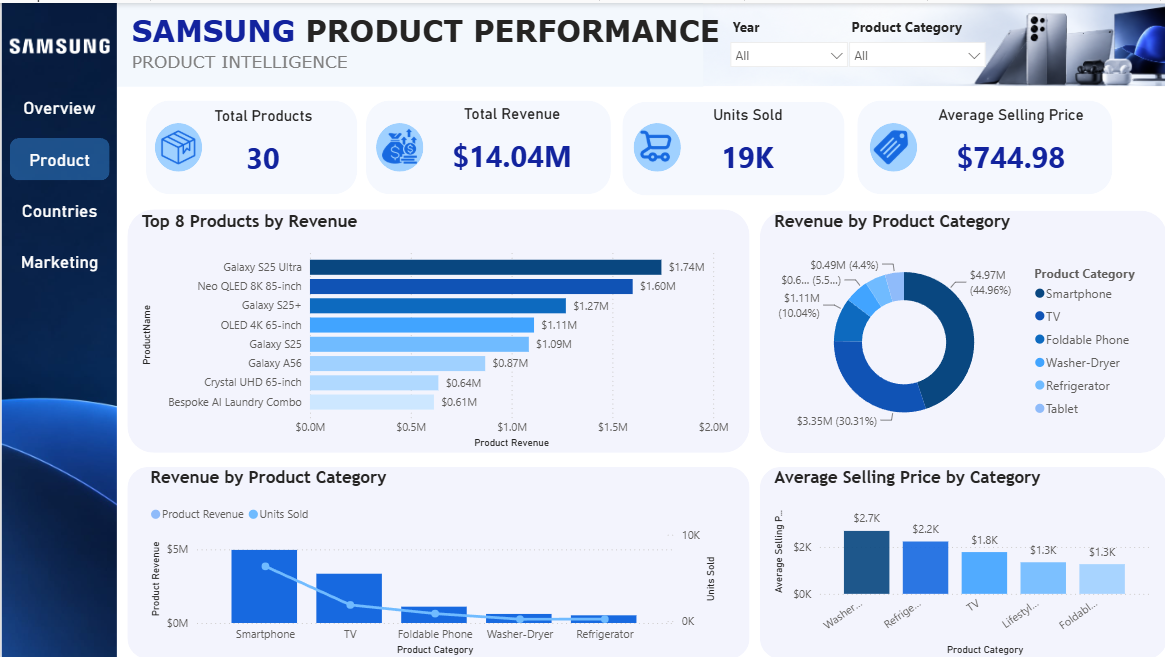

What the dashboard file says about the page in this screenshot:
{"tool":"powerbi","page":{"name":"PRODUCT INTELLIGENCE","canvas":[1280,720],"ordinal":1},"visuals":[{"type":"shape","box":[832.9,509.1,447.3,211.3],"z":0},{"type":"shape","box":[832.9,227.8,447.3,266.2],"z":1000},{"type":"shape","box":[138.6,509.1,683.4,211.3],"z":2000},{"type":"shape","box":[138.6,226.4,683.4,267.6],"z":3000},{"type":"shape","box":[940,107,279.9,102.9],"z":4000},{"type":"shape","box":[682,108.4,244.3,102.9],"z":5000},{"type":"shape","box":[400.7,107,269,102.9],"z":6000},{"type":"shape","box":[159.2,107,231.9,102.9],"z":7000},{"type":"cardVisual","title":"Total Products","fields":{"Data":["Samsung_Products.Total Products"]},"box":[185.2,113.9,205.8,96.1],"z":8000},{"type":"cardVisual","title":"Total Revenue","fields":{"Data":["Samsung_Countries.Total Revenue"]},"box":[450.1,111.1,222.3,94.7],"z":9000},{"type":"cardVisual","title":"Units Sold","fields":{"Data":["Samsung_Countries.Units Sold"]},"box":[719,112.5,201.7,94.7],"z":10000},{"type":"cardVisual","title":"Average Selling Price","fields":{"Data":["Samsung_Countries.Average Selling Price"]},"box":[997.6,112.5,222.3,94.7],"z":11000},{"type":"clusteredBarChart","title":"Top 8 Products by Revenue","fields":{"Category":["Samsung_Products.ProductName"],"Y":["Samsung_Products.Product Revenue"]},"box":[149.6,227.8,654.5,266.2],"z":12000},{"type":"donutChart","title":"Revenue by Product Category","fields":{"Category":["Samsung_Products.ProductCategory"],"Y":["Samsung_Products.Product Revenue"]},"box":[843.9,227.8,421.3,256.6],"z":13000},{"type":"lineClusteredColumnComboChart","title":"Revenue vs Units Sold by Category","fields":{"Category":["Samsung_Products.ProductCategory"],"Y":["Samsung_Products.Product Revenue"],"Y2":["Samsung_Countries.Units Sold"]},"box":[159.2,509.1,631.2,211.3],"z":14000},{"type":"clusteredColumnChart","title":"Average Selling Price by Category","fields":{"Category":["Samsung_Products.ProductCategory"],"Y":["Samsung_Countries.Average Selling Price"]},"box":[843.9,509.1,422.6,211.3],"z":15000},{"type":"image","box":[0,0,127.6,720.4],"z":16000},{"type":"image","box":[746.5,0,533.8,91.9],"z":17000},{"type":"shape","box":[127.6,0,643.6,91.9],"z":18000},{"type":"image","box":[9.6,20.6,109.8,53.5],"z":19000},{"type":"textbox","box":[138.6,5.5,743.7,64.5],"z":20000},{"type":"textbox","box":[138.6,48,299.1,43.9],"z":21000},{"type":"slicer","fields":{"Values":["Samsung_Sales.OrderDate.Variation.Date Hierarchy.Year"]},"box":[790.4,11,149.6,70],"z":22000},{"type":"slicer","fields":{"Values":["Samsung_Products.ProductCategory"]},"box":[920.8,11,170.2,72.7],"z":23000},{"type":"actionButton","box":[9.6,91.9,109.8,46.7],"z":24000},{"type":"actionButton","box":[9.6,148.2,109.8,46.7],"z":25000},{"type":"actionButton","box":[9.6,204.5,109.8,46.7],"z":26000},{"type":"actionButton","box":[9.6,260.7,109.8,46.7],"z":27000},{"type":"shape","box":[168.8,131.7,52.1,53.5],"z":28000},{"type":"shape","box":[411.7,131.7,52.1,53.5],"z":29000},{"type":"shape","box":[694.3,131.7,52.1,53.5],"z":30000},{"type":"shape","box":[953.7,131.7,52.1,53.5],"z":31000},{"type":"image","box":[417.2,130.4,41.2,53.5],"z":32000},{"type":"image","box":[174.3,131.7,41.2,53.5],"z":33000},{"type":"image","box":[698.5,130.4,41.2,53.5],"z":34000},{"type":"image","box":[956.4,131.7,41.2,53.5],"z":35000}]}

Visuals, with their boxes on the page's 1280x720 design canvas (x1, y1, x2, y2). These are canvas units, not pixel positions in the 1165x657 screenshot, which may show the page scaled, cropped or inside an application window:
shape: x1=833 y1=509 x2=1280 y2=720
shape: x1=833 y1=228 x2=1280 y2=494
shape: x1=139 y1=509 x2=822 y2=720
shape: x1=139 y1=226 x2=822 y2=494
shape: x1=940 y1=107 x2=1220 y2=210
shape: x1=682 y1=108 x2=926 y2=211
shape: x1=401 y1=107 x2=670 y2=210
shape: x1=159 y1=107 x2=391 y2=210
"Total Products" cardVisual: x1=185 y1=114 x2=391 y2=210
"Total Revenue" cardVisual: x1=450 y1=111 x2=672 y2=206
"Units Sold" cardVisual: x1=719 y1=112 x2=921 y2=207
"Average Selling Price" cardVisual: x1=998 y1=112 x2=1220 y2=207
"Top 8 Products by Revenue" clusteredBarChart: x1=150 y1=228 x2=804 y2=494
"Revenue by Product Category" donutChart: x1=844 y1=228 x2=1265 y2=484
"Revenue vs Units Sold by Category" lineClusteredColumnComboChart: x1=159 y1=509 x2=790 y2=720
"Average Selling Price by Category" clusteredColumnChart: x1=844 y1=509 x2=1266 y2=720
image: x1=0 y1=0 x2=128 y2=720
image: x1=746 y1=0 x2=1280 y2=92
shape: x1=128 y1=0 x2=771 y2=92
image: x1=10 y1=21 x2=119 y2=74
textbox: x1=139 y1=6 x2=882 y2=70
textbox: x1=139 y1=48 x2=438 y2=92
slicer - Samsung_Sales.OrderDate.Variation.Date Hierarchy.Year: x1=790 y1=11 x2=940 y2=81
slicer - Samsung_Products.ProductCategory: x1=921 y1=11 x2=1091 y2=84
actionButton: x1=10 y1=92 x2=119 y2=139
actionButton: x1=10 y1=148 x2=119 y2=195
actionButton: x1=10 y1=204 x2=119 y2=251
actionButton: x1=10 y1=261 x2=119 y2=307
shape: x1=169 y1=132 x2=221 y2=185
shape: x1=412 y1=132 x2=464 y2=185
shape: x1=694 y1=132 x2=746 y2=185
shape: x1=954 y1=132 x2=1006 y2=185
image: x1=417 y1=130 x2=458 y2=184
image: x1=174 y1=132 x2=216 y2=185
image: x1=698 y1=130 x2=740 y2=184
image: x1=956 y1=132 x2=998 y2=185
